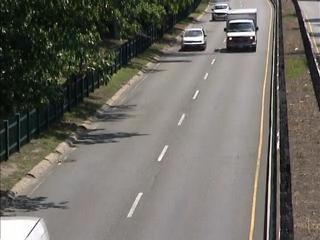car: (180, 28, 207, 53), (210, 3, 231, 22)
truck: (223, 8, 260, 51)
